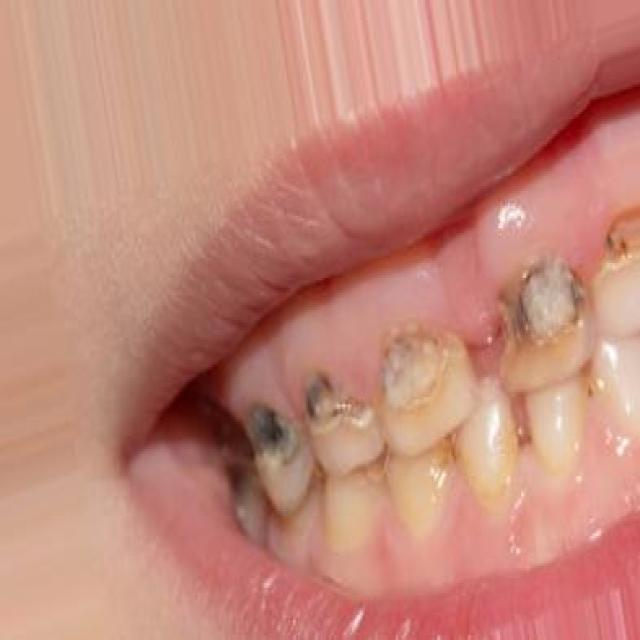caries: (491, 247, 586, 380), (374, 316, 461, 426), (294, 354, 378, 448), (236, 387, 306, 484), (587, 195, 640, 316)
